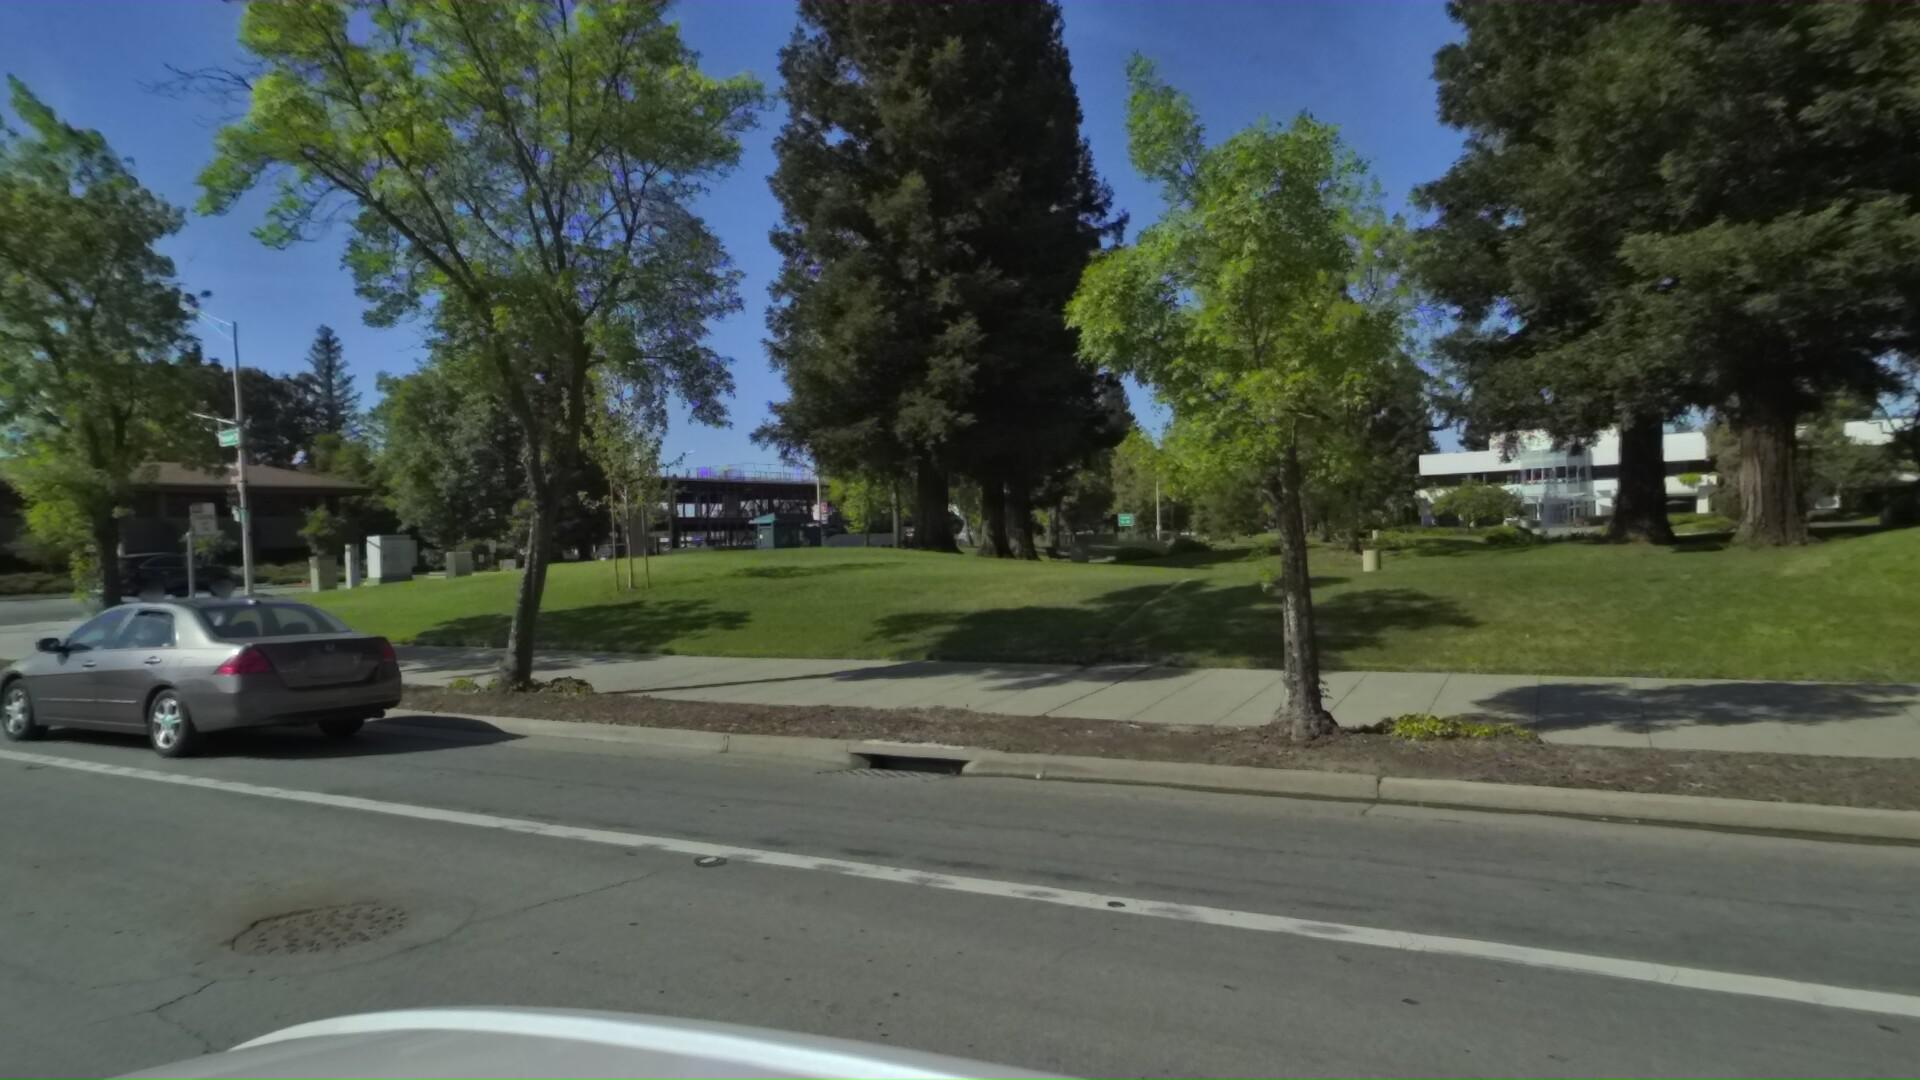car: (0, 564, 433, 769), (80, 545, 251, 604), (595, 530, 678, 566)
